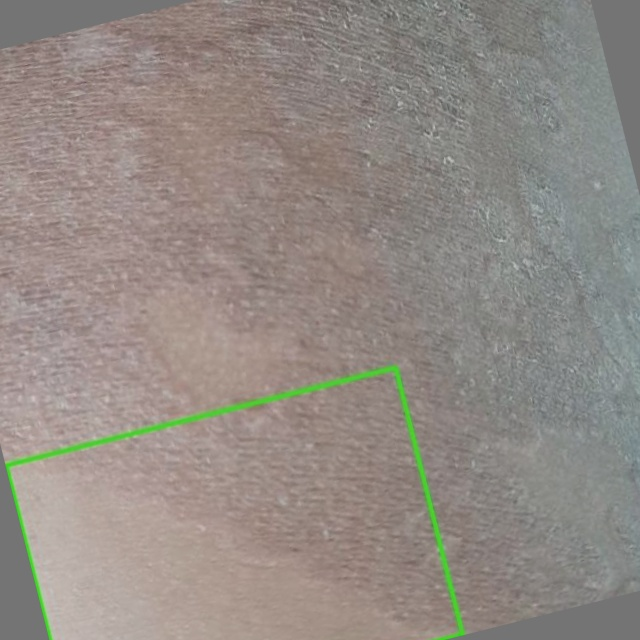Tinea Corporis: (6, 367, 462, 639)
